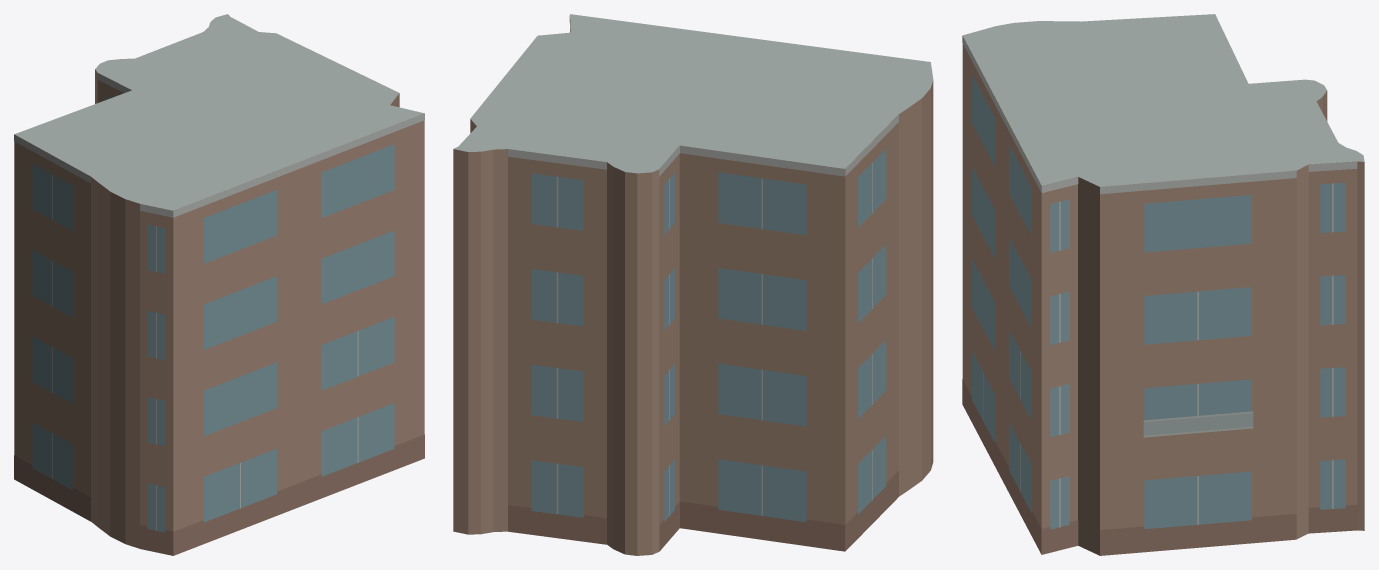
The model's file is survey-upis-33016192.glb.
3 views of the same model, side by side, from view 1: azimuth 30°, elevation 25°; view 2: azimuth 150°, elevation 25°; view 3: azimuth 270°, elevation 25° (orthographic). The views are drawn at different scales.
Visible parts, largest first — view 1: survey-upis-33016192.tmp; view 2: survey-upis-33016192.tmp; view 3: survey-upis-33016192.tmp.
Boxes of the visible parts, x1,y1,x2,y2 form: survey-upis-33016192.tmp: (14, 14, 424, 555); survey-upis-33016192.tmp: (453, 14, 933, 555); survey-upis-33016192.tmp: (962, 14, 1364, 555).
Bounding box in the file's own units: 12.27 × 12.2 × 12.06.
